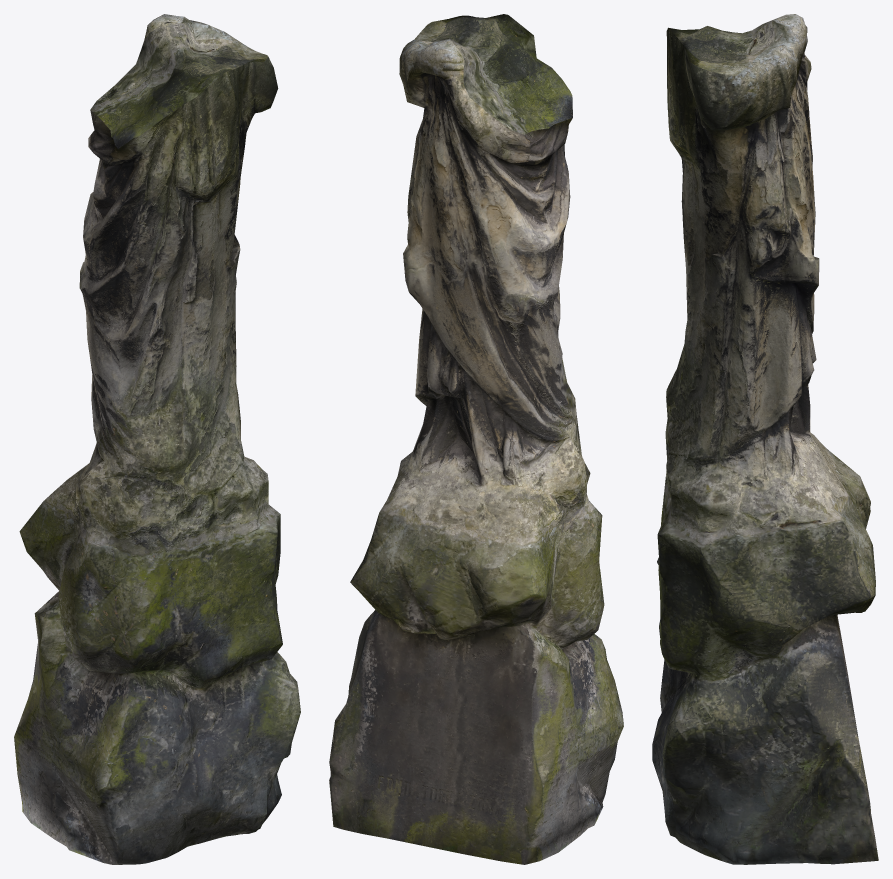
The model's file is SM_GraveSculpture_01_02.fbx.
The picture shows the model from 3 angles, left to right: view 1: azimuth 30°, elevation 25°; view 2: azimuth 150°, elevation 25°; view 3: azimuth 270°, elevation 25°; orthographic projection. The views are drawn at different scales.
Visible parts, largest first — view 1: sm_GraveSculpture_01_02_LOD0; view 2: sm_GraveSculpture_01_02_LOD0; view 3: sm_GraveSculpture_01_02_LOD0.
Part boxes in pixels (<box>): sm_GraveSculpture_01_02_LOD0: <box>14,14,300,864</box>; sm_GraveSculpture_01_02_LOD0: <box>329,14,623,864</box>; sm_GraveSculpture_01_02_LOD0: <box>652,14,878,864</box>.
Size of the model in its own units: 69.15 by 75.95 by 274.
